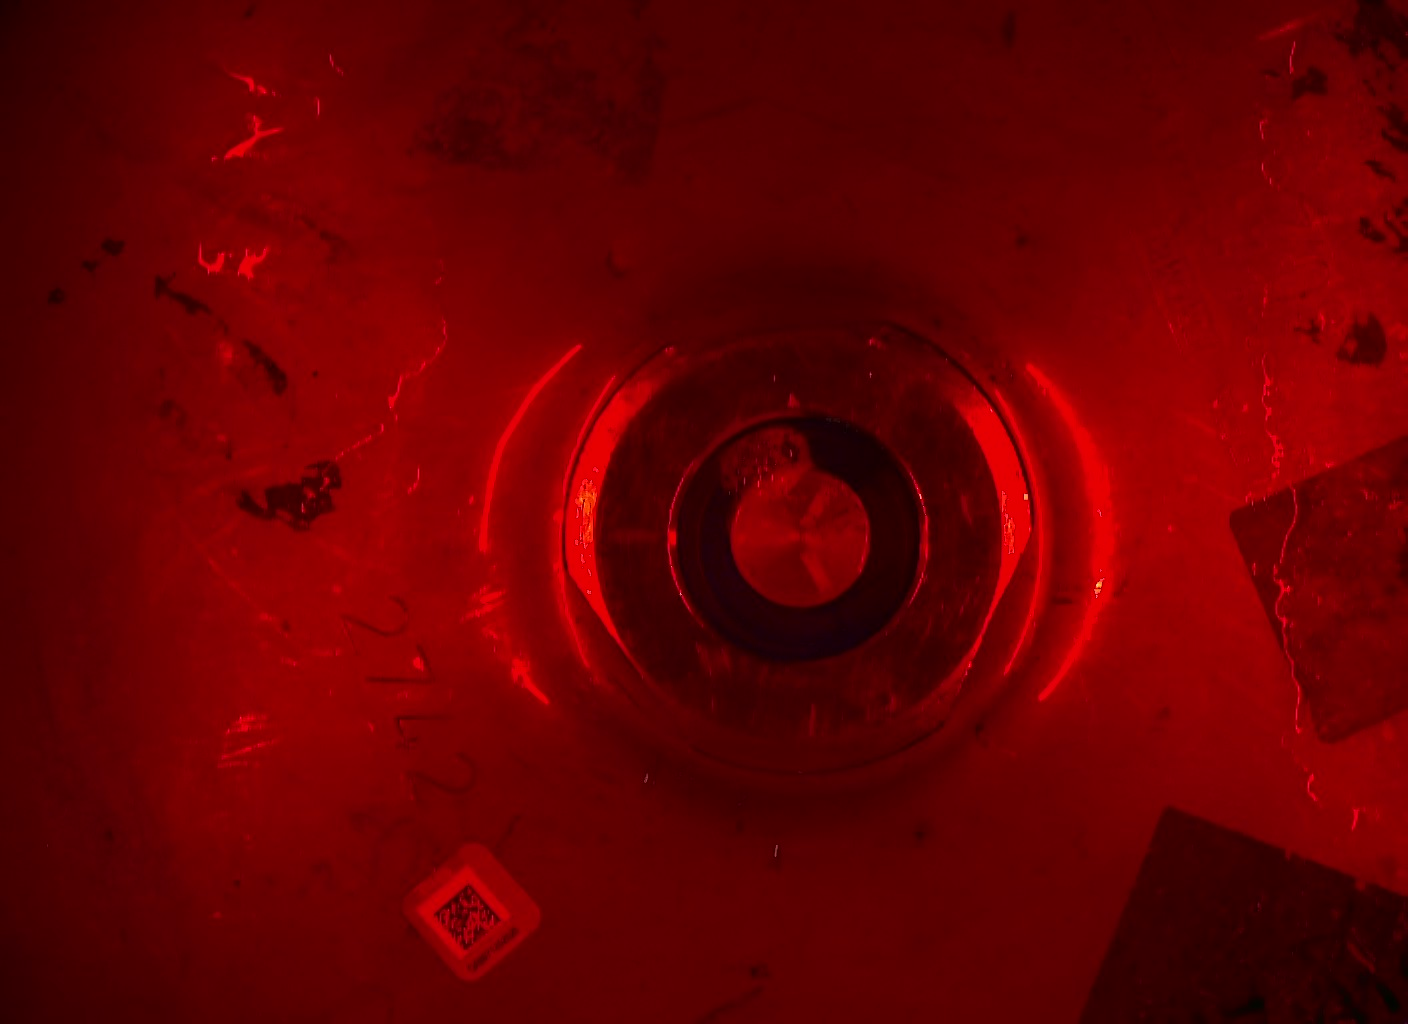pena: (702, 415, 812, 501)
